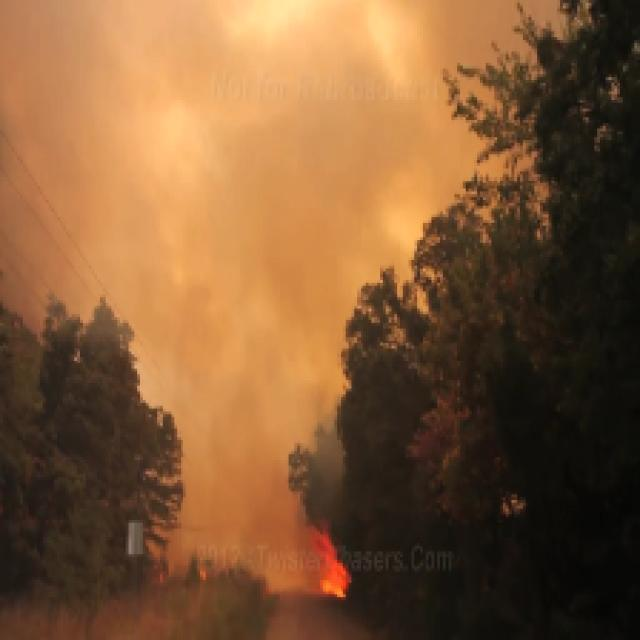Fire: (280, 491, 383, 603)
Smoke: (0, 0, 554, 465)
